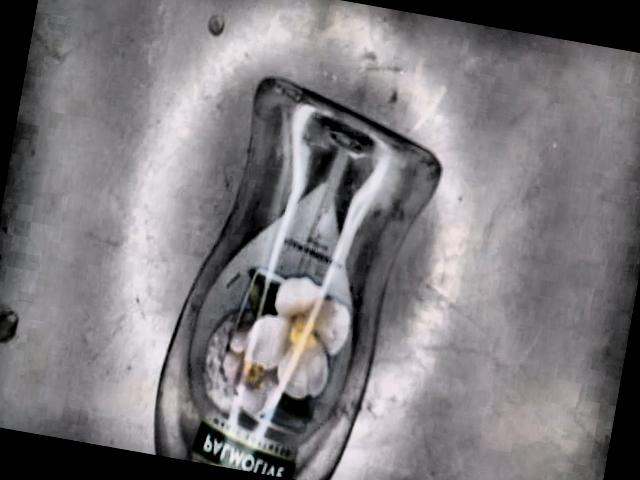Plastic: (149, 78, 449, 480)
